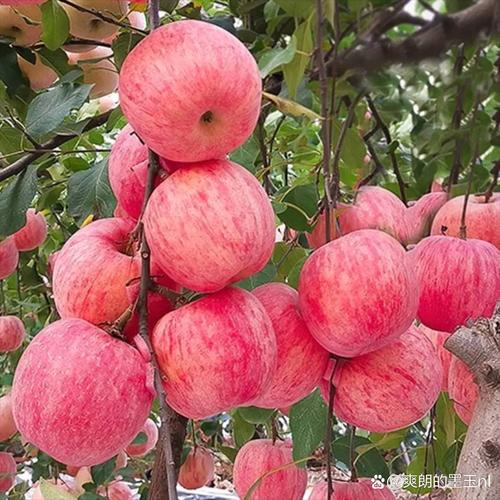ripe: (3, 315, 166, 472), (112, 24, 270, 162), (144, 162, 276, 291), (41, 214, 172, 342), (149, 286, 272, 422), (300, 235, 423, 357), (94, 117, 232, 205), (406, 226, 496, 328)
unripe: (46, 0, 139, 54), (65, 51, 120, 101), (0, 0, 47, 45)
